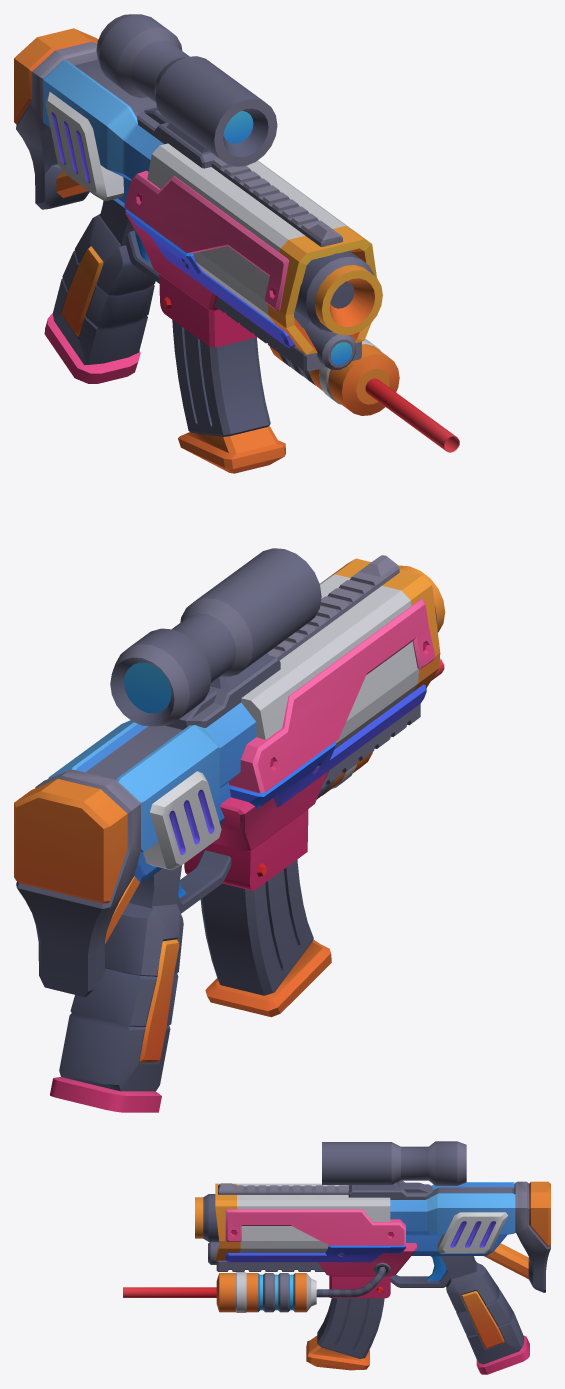
File: Rifle C.fbx
The picture shows the model from 3 angles, top to bottom: view 1: azimuth 30°, elevation 25°; view 2: azimuth 150°, elevation 25°; view 3: azimuth 270°, elevation 25°; orthographic projection. The views are drawn at different scales.
Visible parts, largest first — view 1: Rifle C, Rifle C.002, Rifle C.006, Rifle C.001; view 2: Rifle C, Rifle C.002, Rifle C.006; view 3: Rifle C, Rifle C.002, Rifle C.001, Rifle C.006.
Part boxes in pixels (left/top/right/bottom): Rifle C: left=14, top=28, right=382, bottom=383; Rifle C.002: left=96, top=14, right=277, bottom=168; Rifle C.006: left=172, top=320, right=285, bottom=473; Rifle C.001: left=269, top=339, right=459, bottom=452; Rifle C: left=14, top=555, right=445, bottom=1112; Rifle C.002: left=110, top=548, right=321, bottom=729; Rifle C.006: left=200, top=859, right=331, bottom=1017; Rifle C: left=195, top=1181, right=550, bottom=1374; Rifle C.002: left=322, top=1141, right=466, bottom=1199; Rifle C.001: left=123, top=1262, right=390, bottom=1312; Rifle C.006: left=306, top=1298, right=384, bottom=1370.
Size of the model in its own units: 0.2003 by 0.5982 by 1.29.
